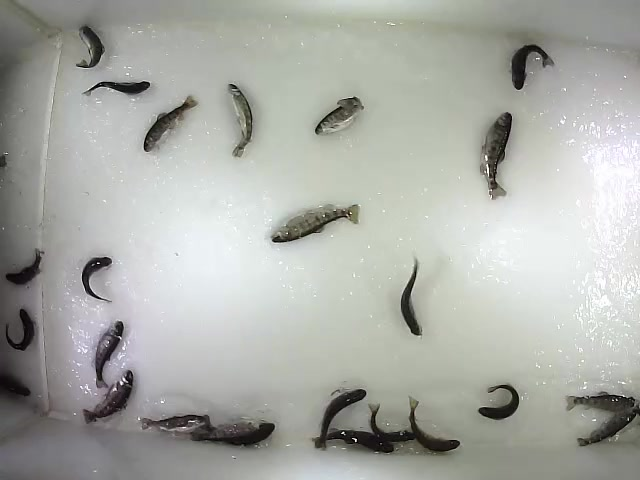fish: (270, 202, 362, 244), (142, 94, 201, 153), (477, 110, 514, 202), (407, 395, 462, 453), (82, 369, 135, 426), (319, 389, 367, 451), (575, 405, 639, 450), (91, 319, 125, 390), (509, 43, 557, 92), (190, 420, 277, 447), (399, 250, 425, 338), (226, 82, 255, 160), (314, 96, 366, 137), (310, 429, 394, 454), (368, 403, 416, 443), (477, 383, 521, 422), (4, 247, 46, 287), (563, 389, 636, 412), (80, 256, 114, 303), (140, 413, 212, 435), (4, 307, 37, 353), (74, 24, 106, 70), (80, 78, 152, 97)
